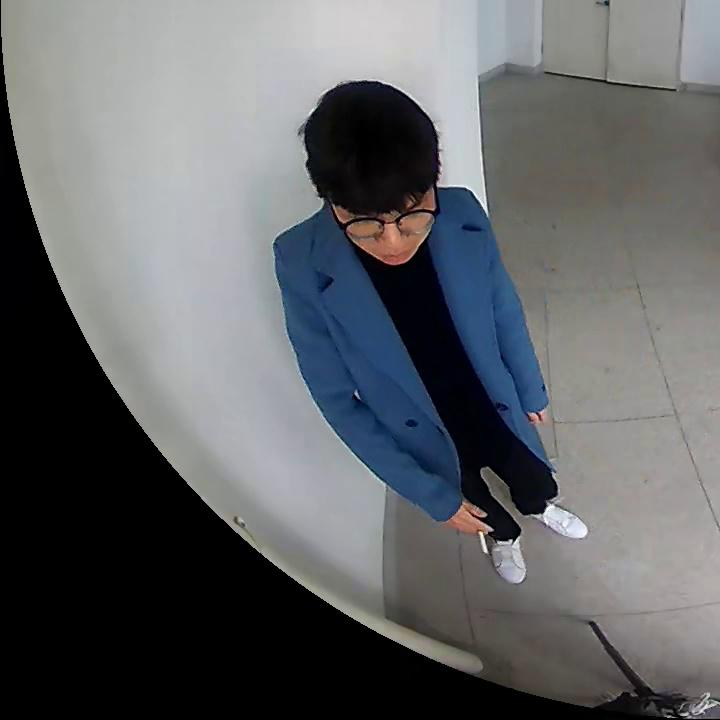handsmoke: (457, 502, 492, 555)
handwithoutsmoke: (527, 409, 546, 423)
mouthwithoutsmoke: (302, 80, 437, 264)
